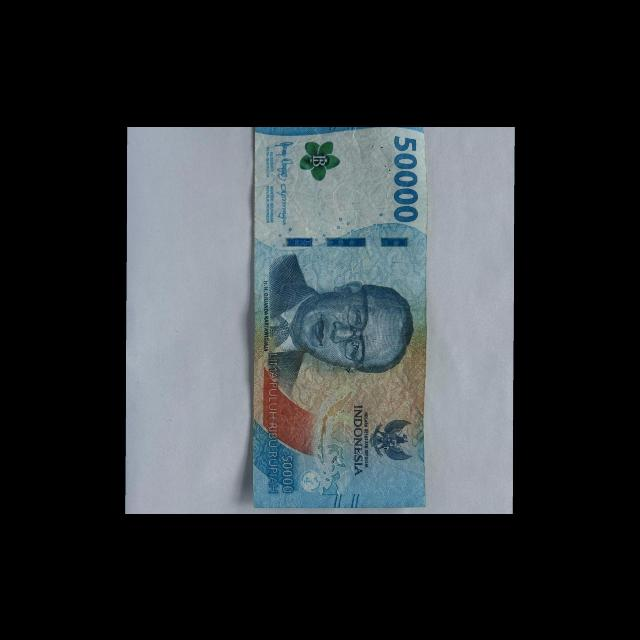Palsu-50k: (252, 127, 427, 510)
Tinta-Palsu-50k: (300, 140, 341, 180)
